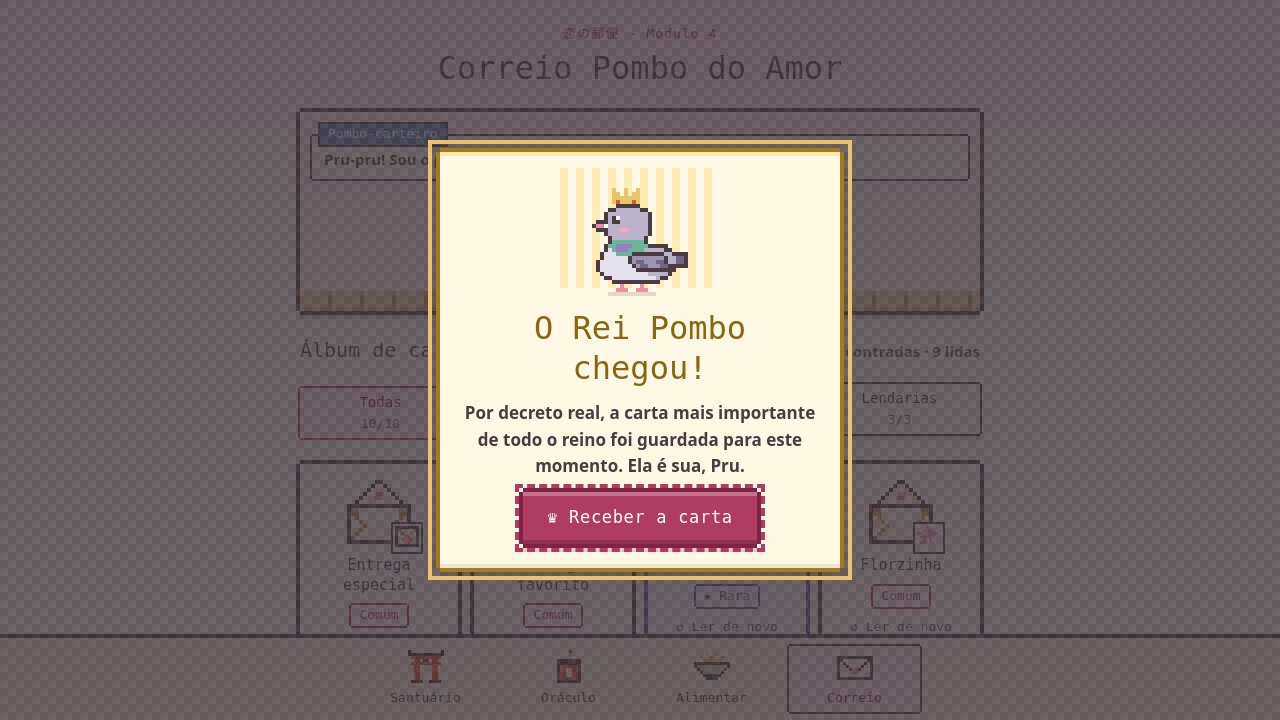
Test: Correio Pombo do Amor › com as outras 9 encontradas, o Rei Pombo entrega a carta final
Click the button "♛ Receber a carta": (640, 518) [523,492,757,544]
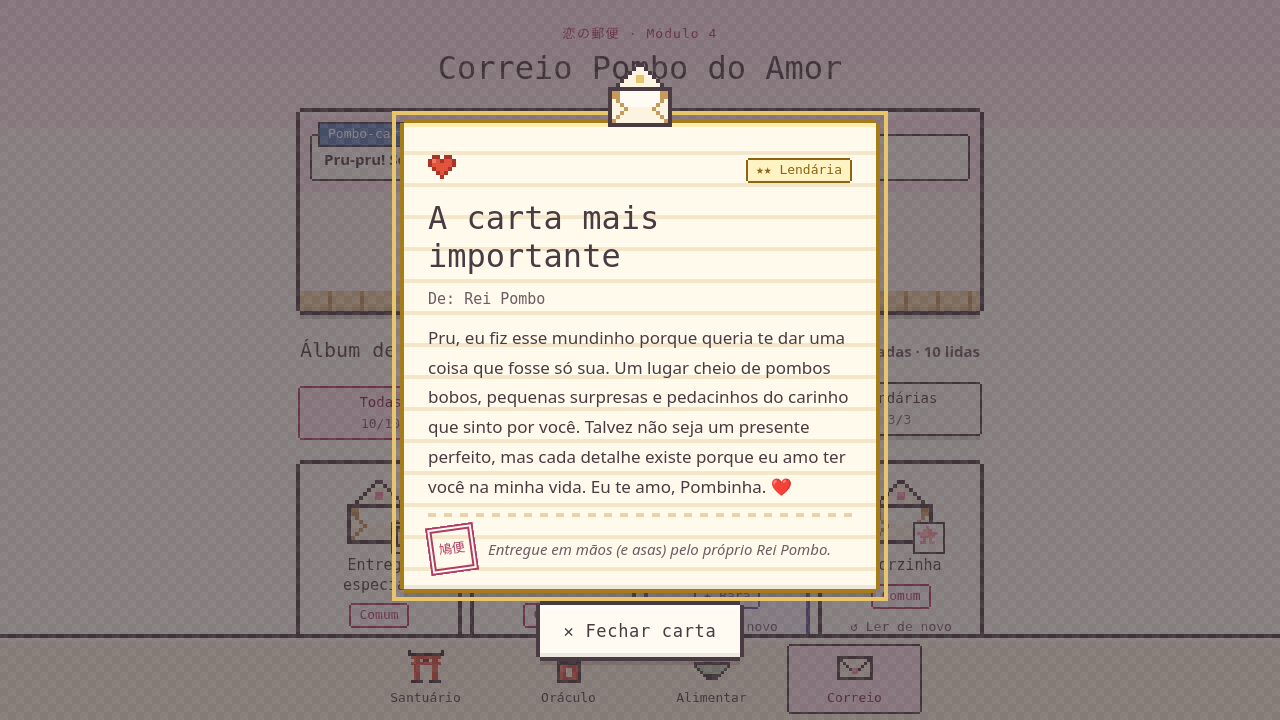
expect the dialog "A carta mais importante" shows "Eu te amo, Pombinha.": met, box [428,326,848,498]
expect the dialog "A carta mais importante" shows "Entregue em mãos (e asas) pelo próprio Rei Pombo.": met, box [488,539,831,559]
expect the element with test id "album-count" reads "10 / 10 cartas encontradas · 10 lidas": met, box [708,335,980,366]
